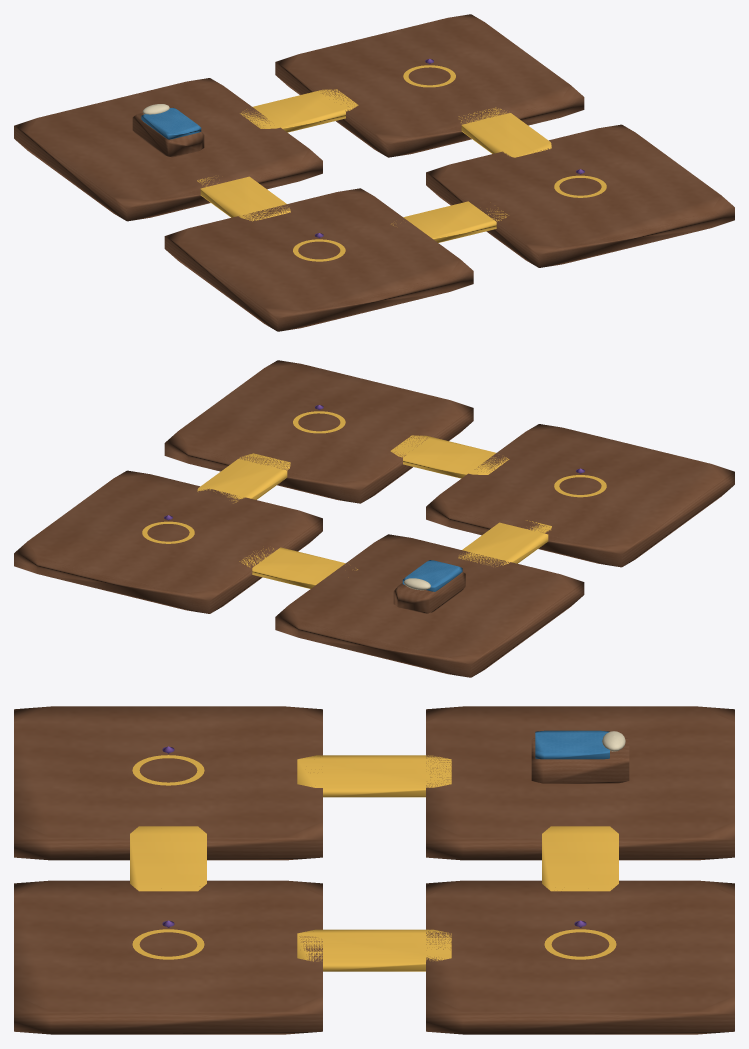
Rendered from last_shadow_arena.glb.
3 renders of one model, top to bottom at view 1: azimuth 30°, elevation 25°; view 2: azimuth 150°, elevation 25°; view 3: azimuth 270°, elevation 25°, orthographic. The views are drawn at different scales.
Visible parts, largest first — view 1: last_shadow_arena_StaticBatch; view 2: last_shadow_arena_StaticBatch; view 3: last_shadow_arena_StaticBatch.
Part boxes in pixels (<box>): last_shadow_arena_StaticBatch: <box>14,14,734,331</box>; last_shadow_arena_StaticBatch: <box>14,360,734,677</box>; last_shadow_arena_StaticBatch: <box>14,706,734,1034</box>.
Size of the model in its own units: 14 by 1.27 by 14.
1 material, 1 textured.
